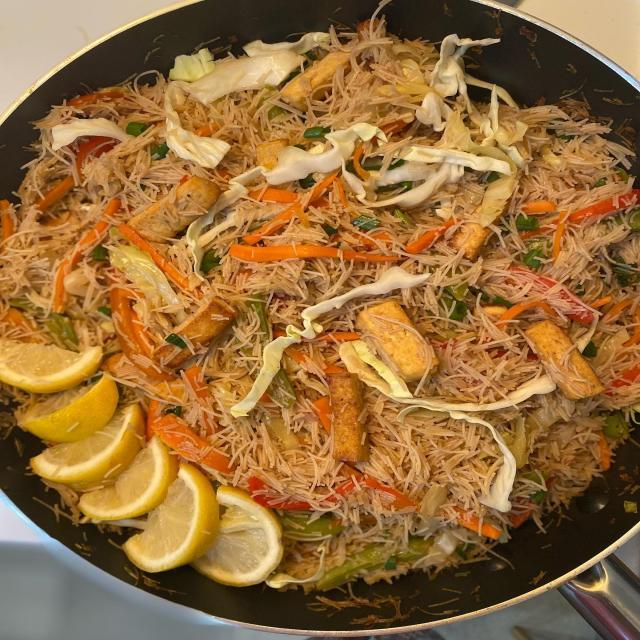pancit bihon: (10, 32, 640, 552)
